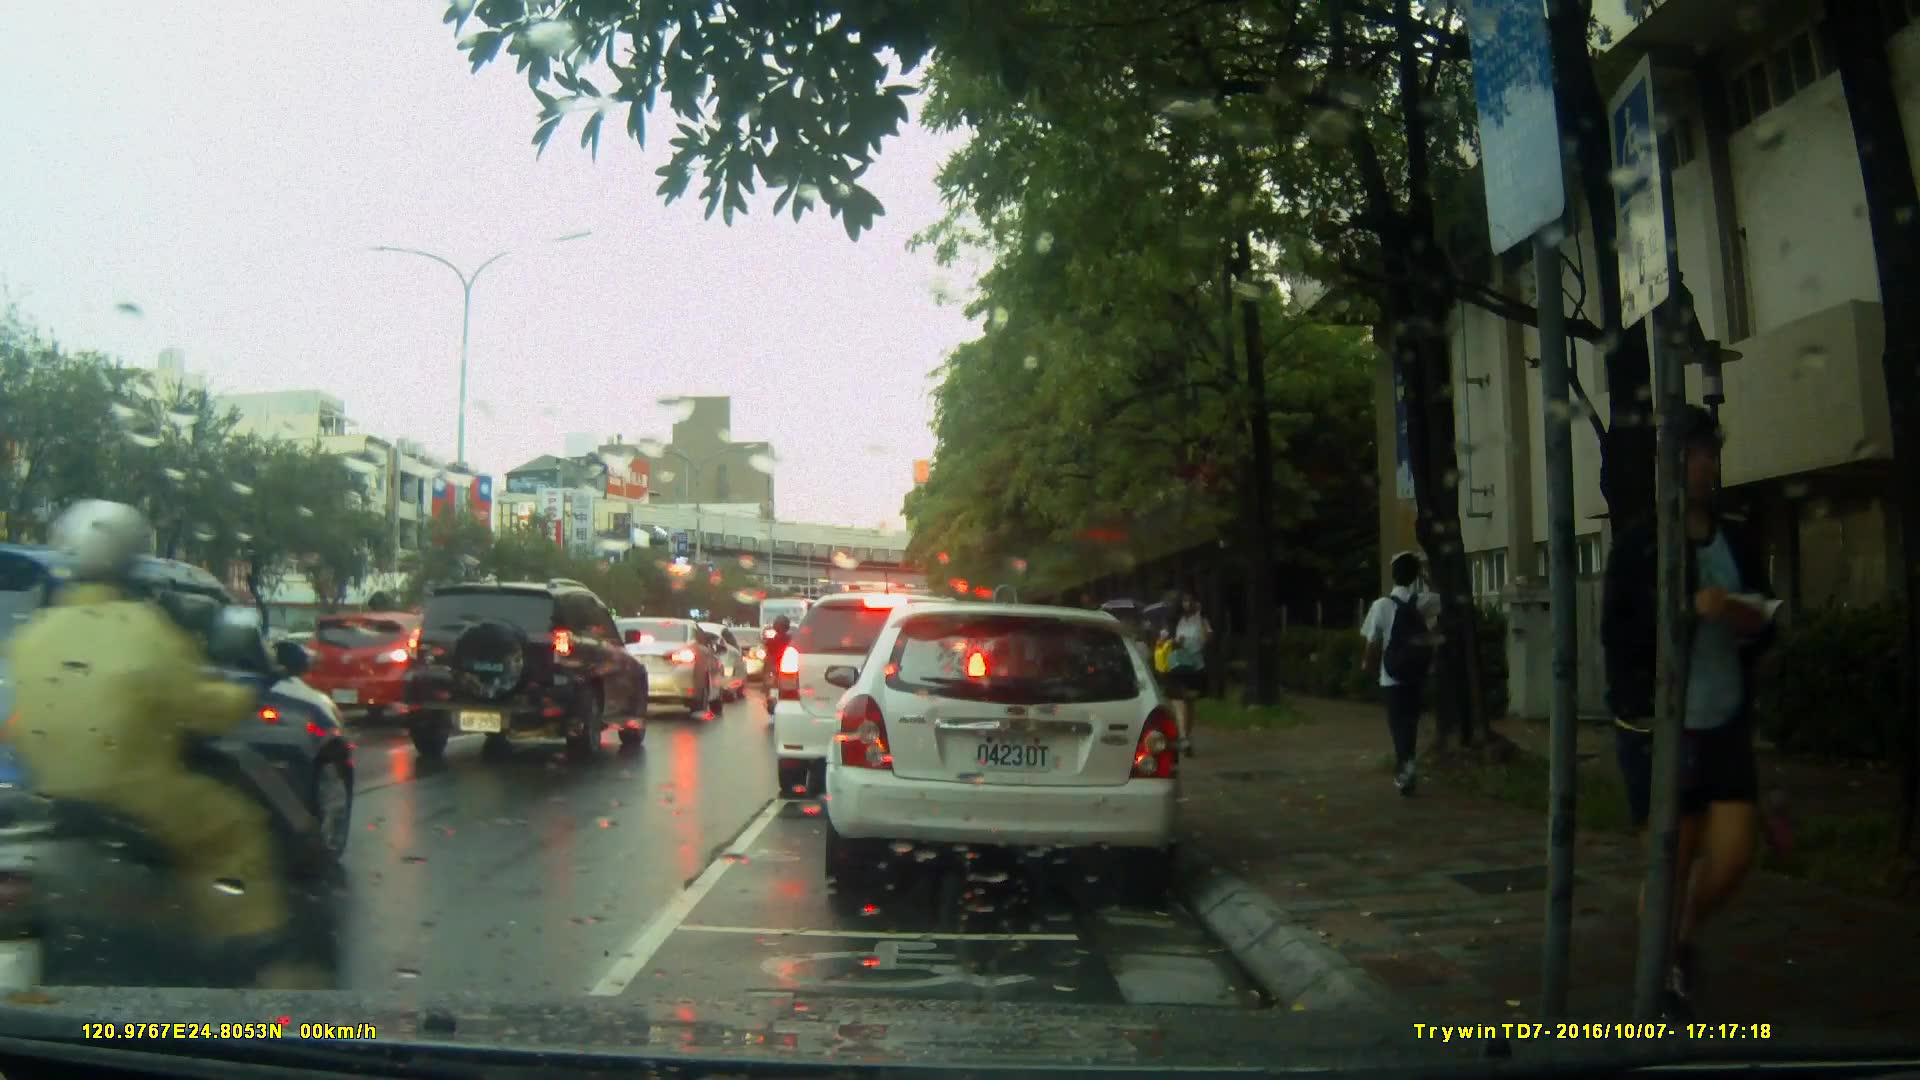pedestrian: (1635, 403, 1788, 1025), (1345, 536, 1459, 797), (1154, 576, 1215, 748)
rider: (1, 501, 359, 1047), (755, 612, 796, 718)
vehicle: (4, 548, 361, 910), (815, 593, 1202, 903), (397, 577, 653, 768), (771, 590, 995, 802), (295, 610, 479, 723), (575, 615, 721, 725)
